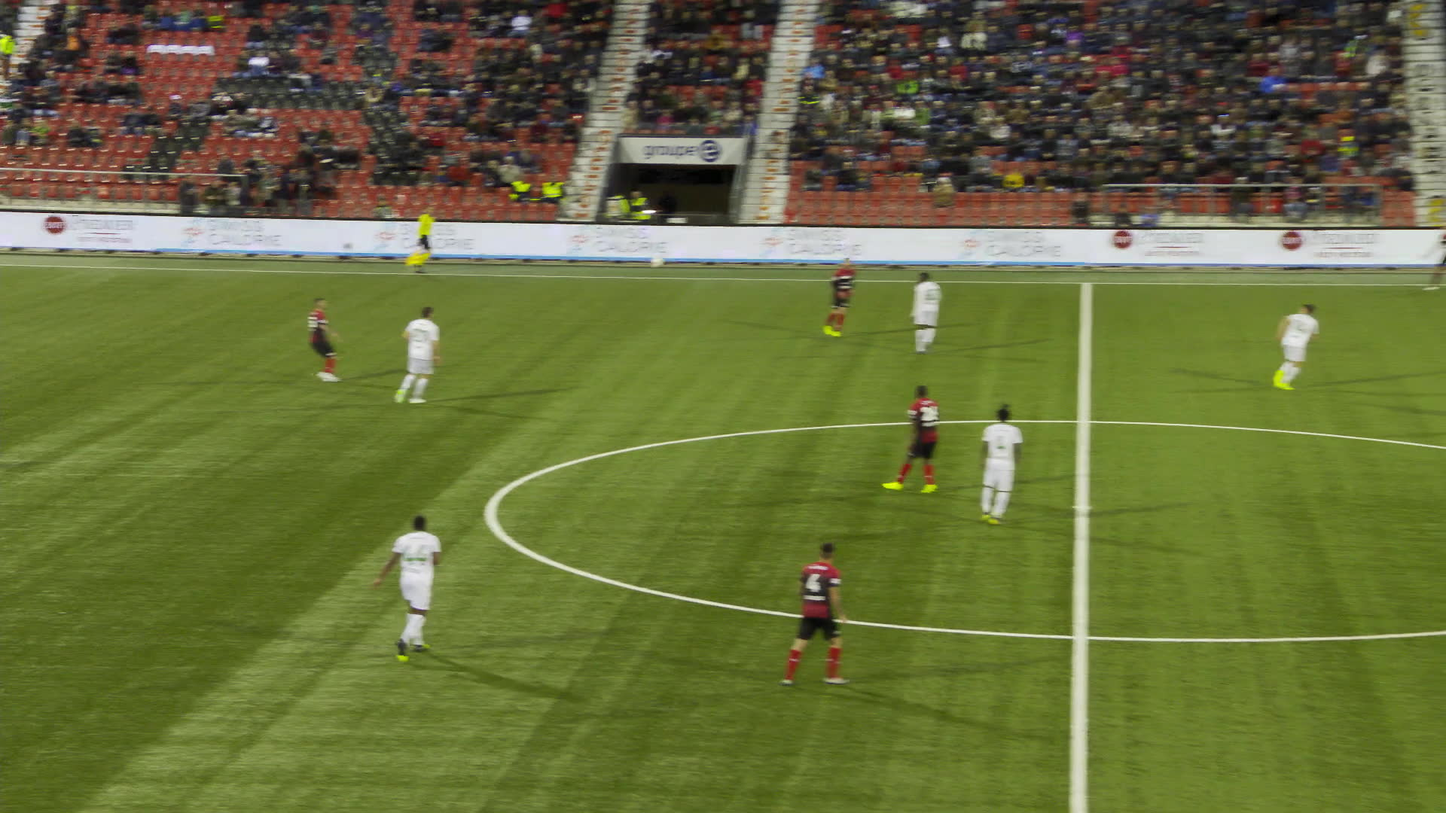ball: (649, 254, 664, 267)
player: (368, 513, 444, 662), (777, 540, 851, 685), (880, 383, 941, 494), (977, 402, 1023, 525), (392, 305, 442, 403), (1271, 303, 1320, 390), (306, 297, 343, 382), (908, 271, 943, 355), (822, 257, 858, 336), (1420, 231, 1445, 291)
referee: (403, 203, 436, 273)
